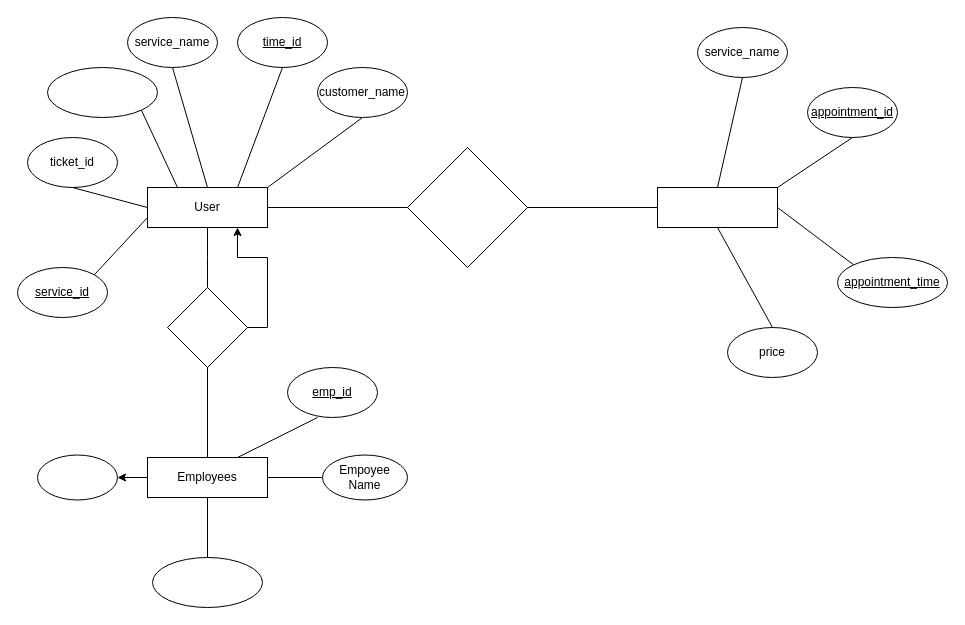
Some shapes in this 965 by 625 pixel diagram are drawn without their labels. Here are the shapes that lost their labels. From the top down, the centre of each, then its label:
point (102, 92): customer_number
point (467, 207): Books
point (717, 207): Appointment
point (207, 327): Manages
point (77, 477): Address
point (207, 582): Employee Contact
